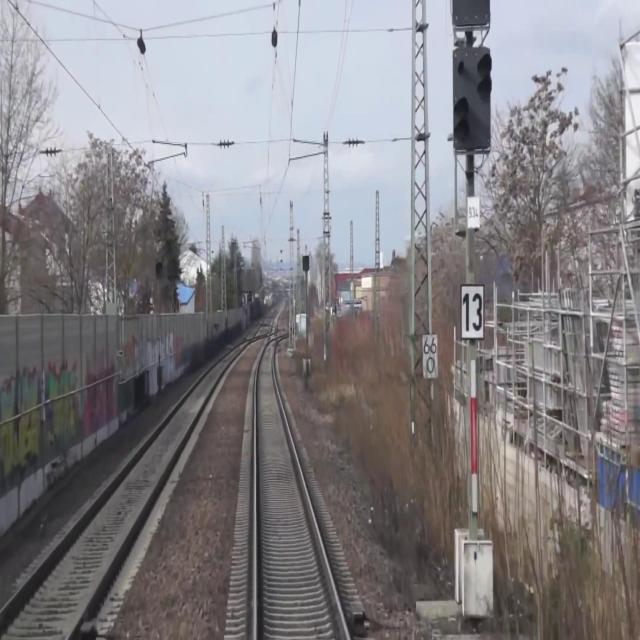rail-track: (257, 341, 346, 639)
